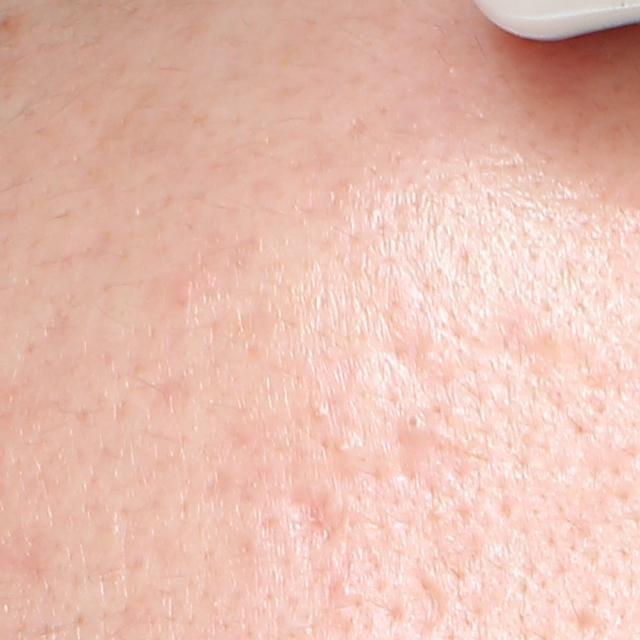atrophic_scar: (399, 560, 449, 634), (293, 491, 341, 555), (568, 608, 598, 635)
comedo: (331, 430, 364, 458), (401, 408, 428, 437), (307, 397, 335, 424)
